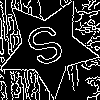S: (23, 21, 72, 77)
